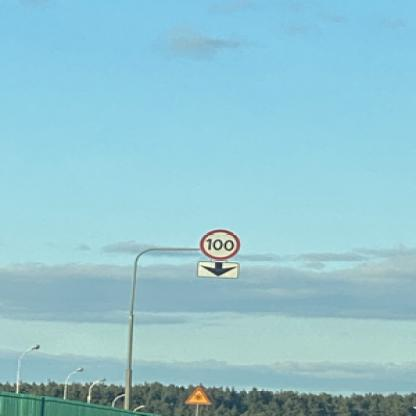speedlimit: (197, 227, 238, 258)
